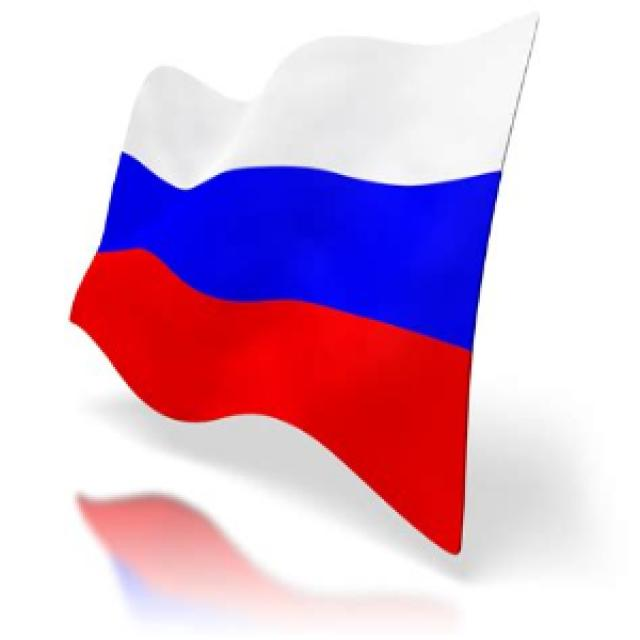russia: (37, 28, 630, 563)
